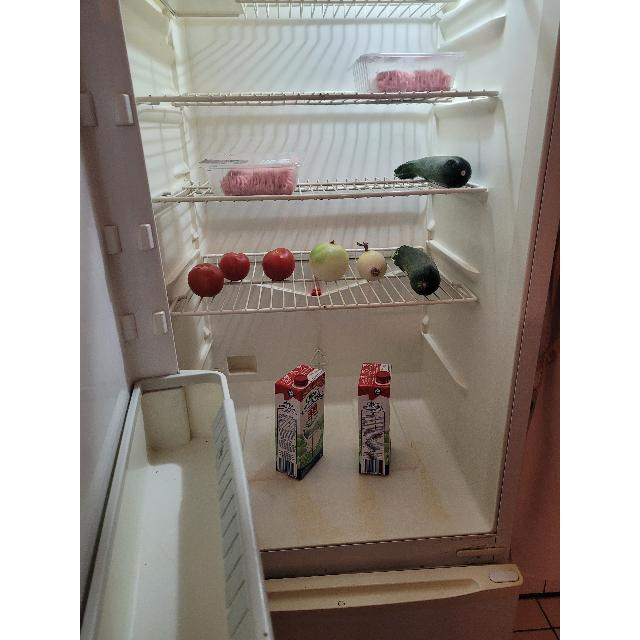meat: (220, 168, 296, 196), (373, 69, 453, 93)
milk: (274, 362, 324, 480), (358, 362, 392, 478)
onion: (307, 240, 348, 282), (355, 242, 387, 282)
tomato: (187, 262, 225, 298), (261, 246, 295, 282), (220, 252, 250, 282)
zucchini: (394, 154, 470, 188), (392, 244, 441, 296)
